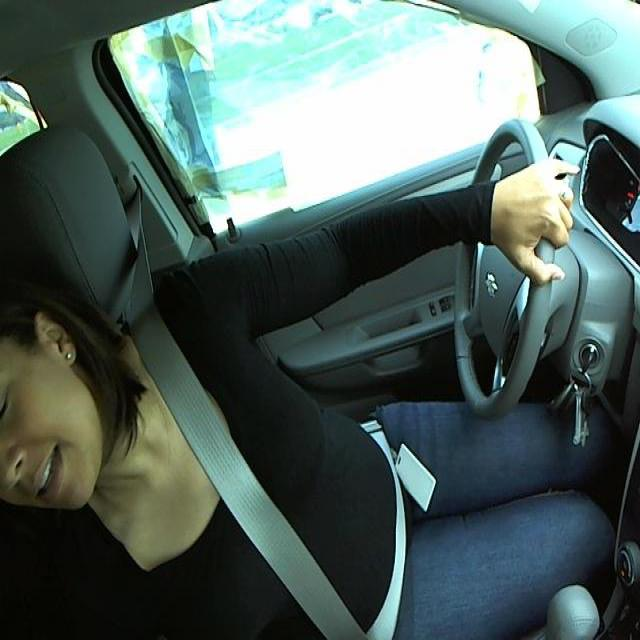seatbelt: (133, 330, 414, 630)
